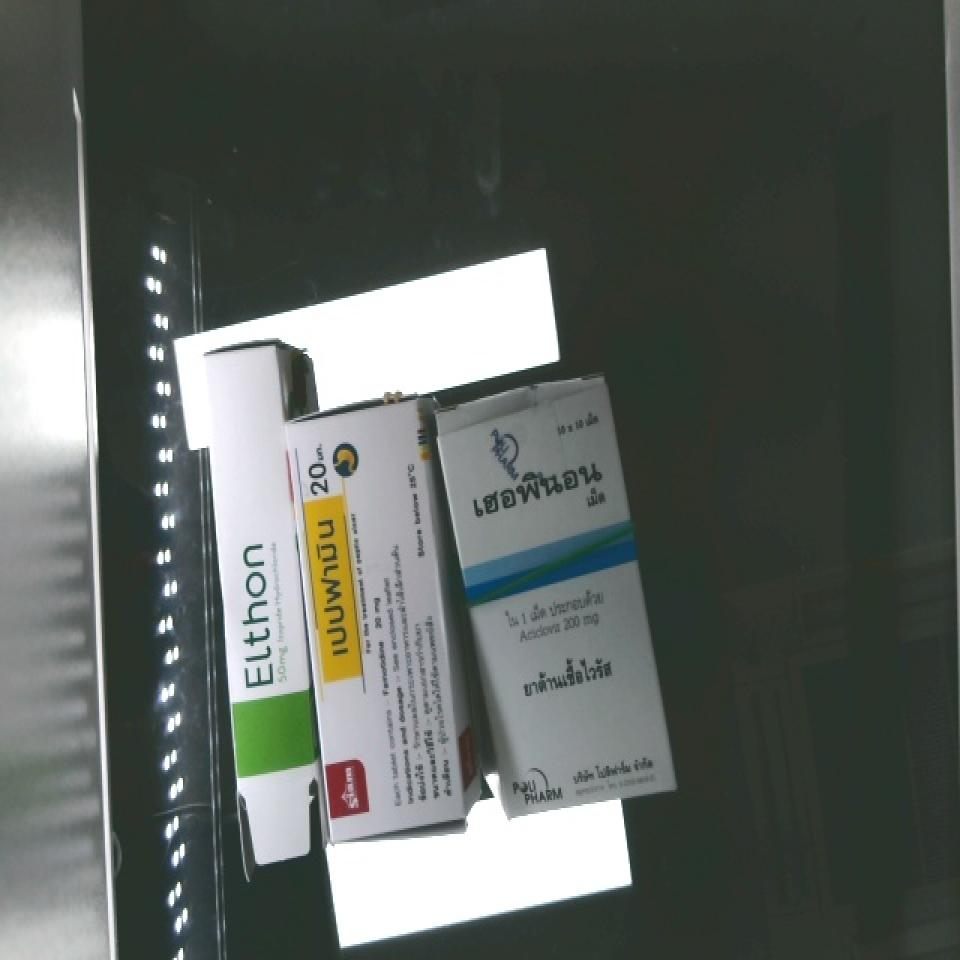medicine_box: (433, 378, 675, 815), (288, 397, 466, 838), (194, 336, 328, 876)
medicine_label_obb: (442, 437, 628, 559), (292, 437, 362, 696), (212, 515, 304, 702)
